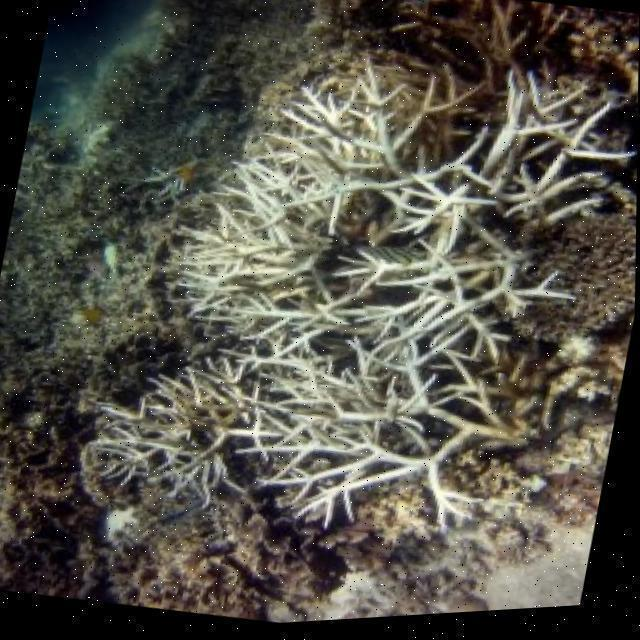Bleached Coral: (120, 31, 640, 569)
Dead Coral: (23, 155, 105, 399)
